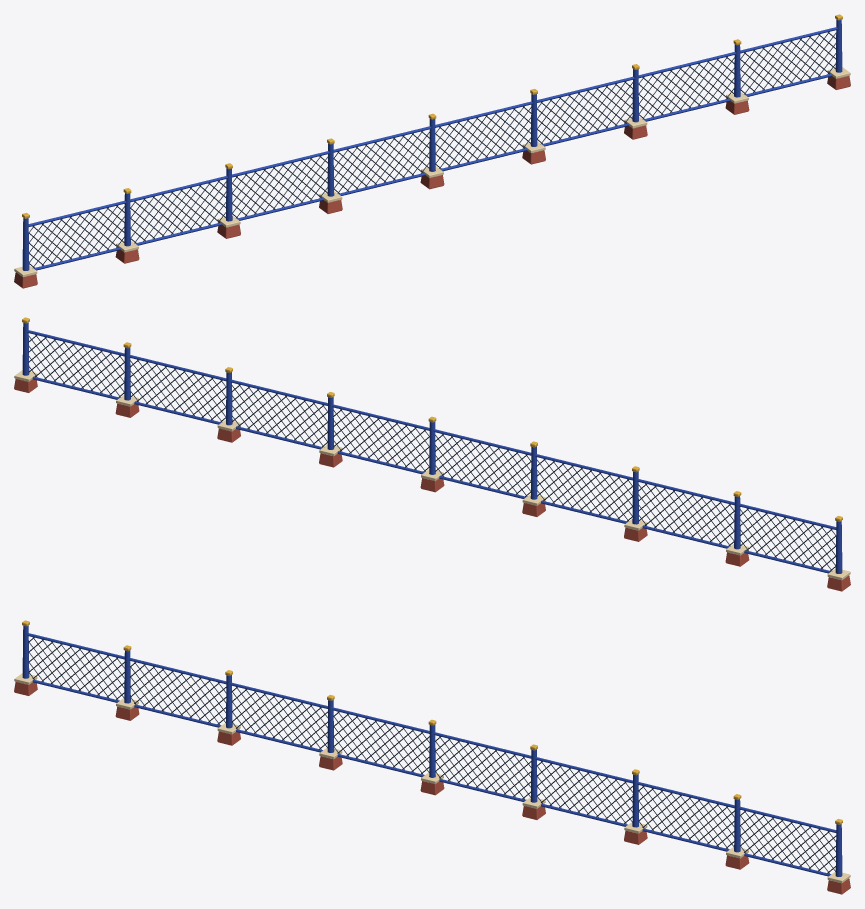
The model's file is fence_8.glb.
3 renders of one model, top to bottom at view 1: azimuth 30°, elevation 25°; view 2: azimuth 150°, elevation 25°; view 3: azimuth 330°, elevation 25°, orthographic.
Visible parts, largest first — view 1: fence_8; view 2: fence_8; view 3: fence_8.
Boxes of the visible parts, x1,y1,x2,y2 form: fence_8: [14, 14, 850, 288]; fence_8: [14, 317, 850, 591]; fence_8: [14, 620, 850, 894].
Bounding box in the file's own units: 23.19 × 1.87 × 0.4439.
